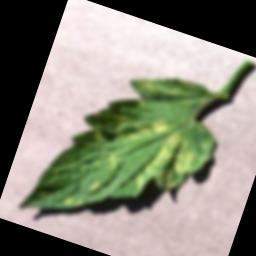Leaf_Mold: (132, 123, 203, 207), (149, 116, 170, 137), (102, 149, 122, 169), (85, 176, 104, 197), (138, 78, 161, 95)
